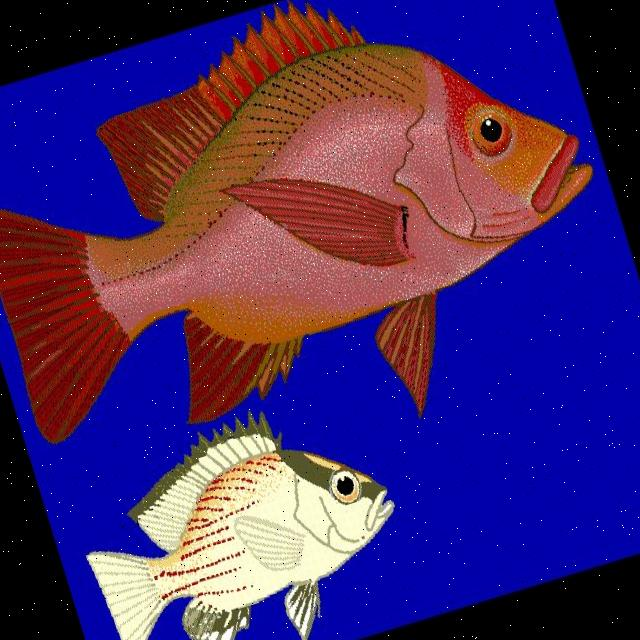ikan: (0, 0, 640, 526), (58, 376, 429, 640)
